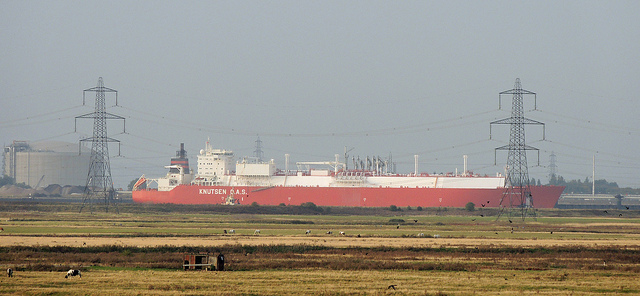LNG_ship: (131, 137, 571, 209)
tug_boat: (219, 190, 250, 206)
